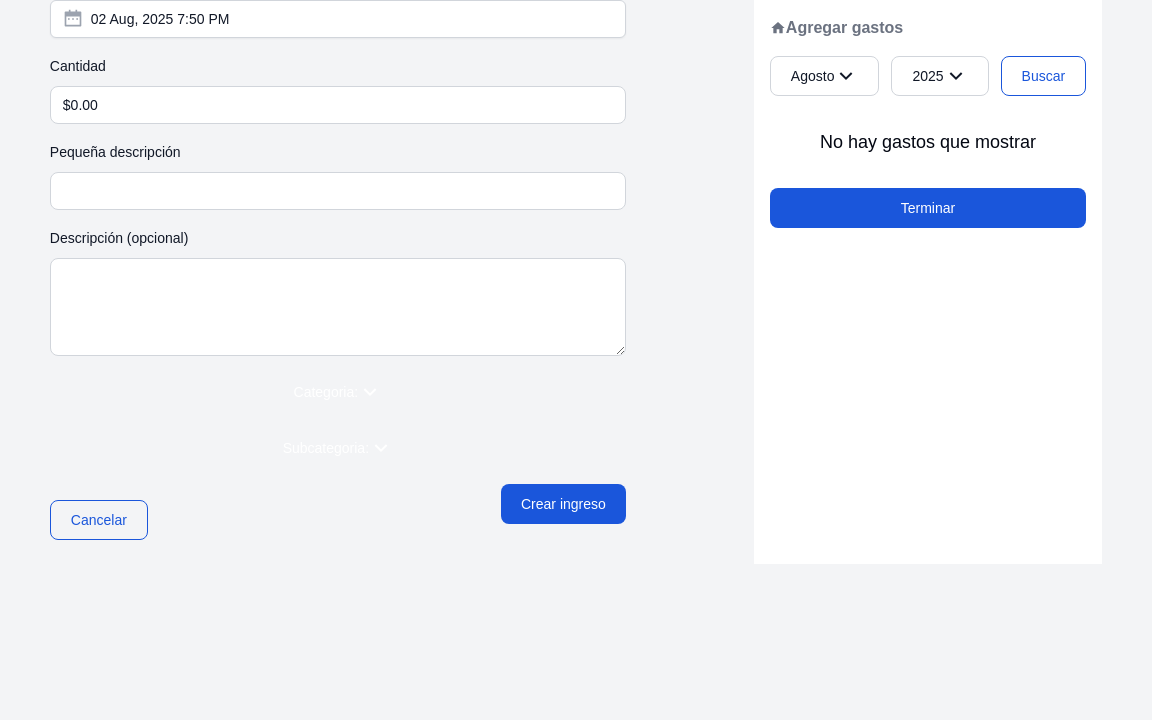
Test: IncomeTemplate › Form validations › Given a user typing one letter and then clicking create expense, show validation error for description to be more than 3 characters
Type "a" into the text box labelled "Descripción (opcional)". click: (338, 307)
box: [50,258,626,356]
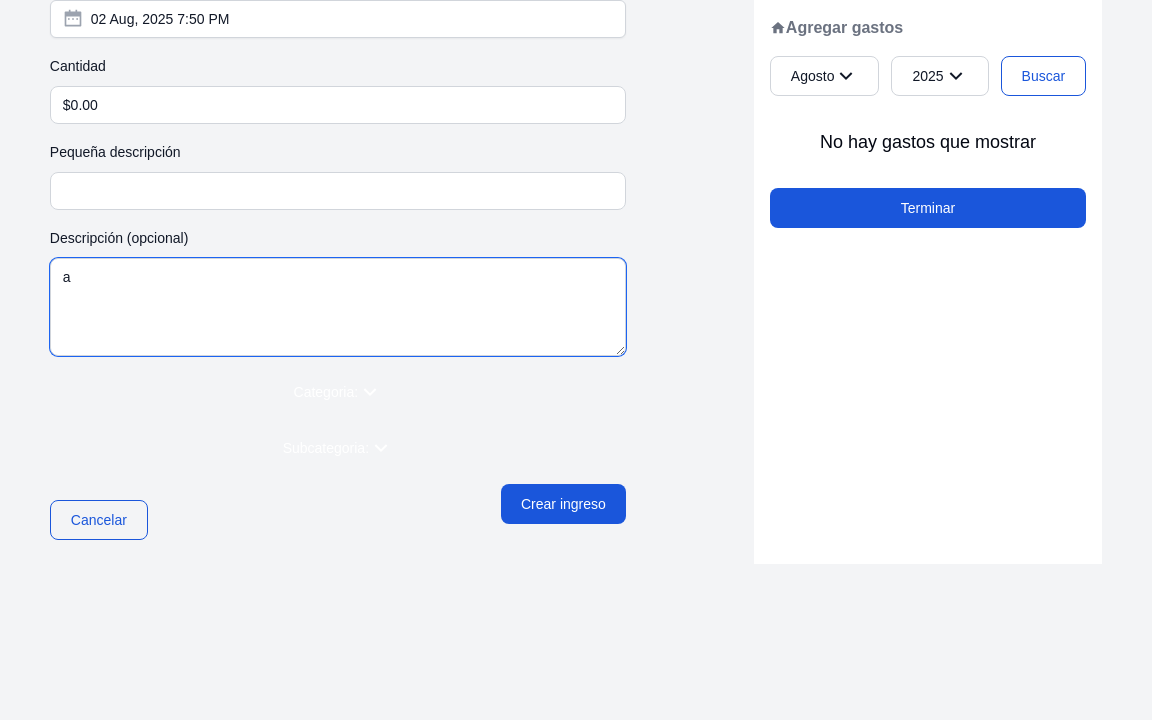
Click the button "Crear ingreso". click: (563, 504)
box: [501,484,626,524]
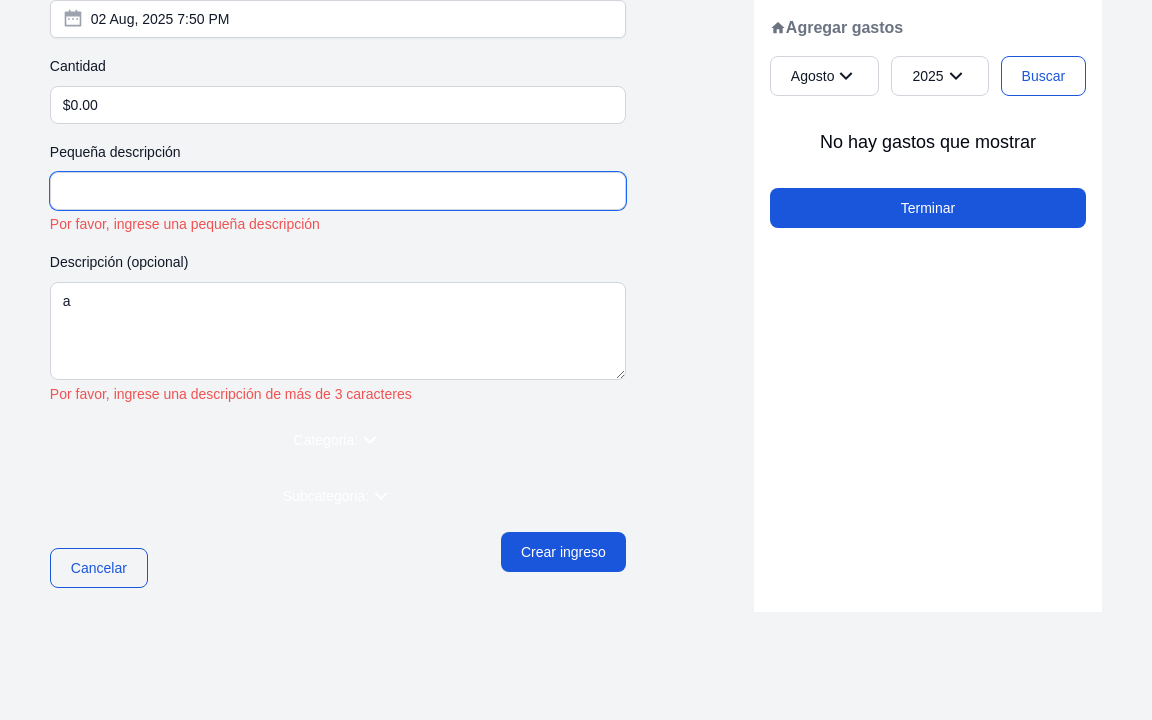
Check: the text "Por favor, ingrese una descripción de más de 3 caracteres" is shown, box [50,386,412,402]
